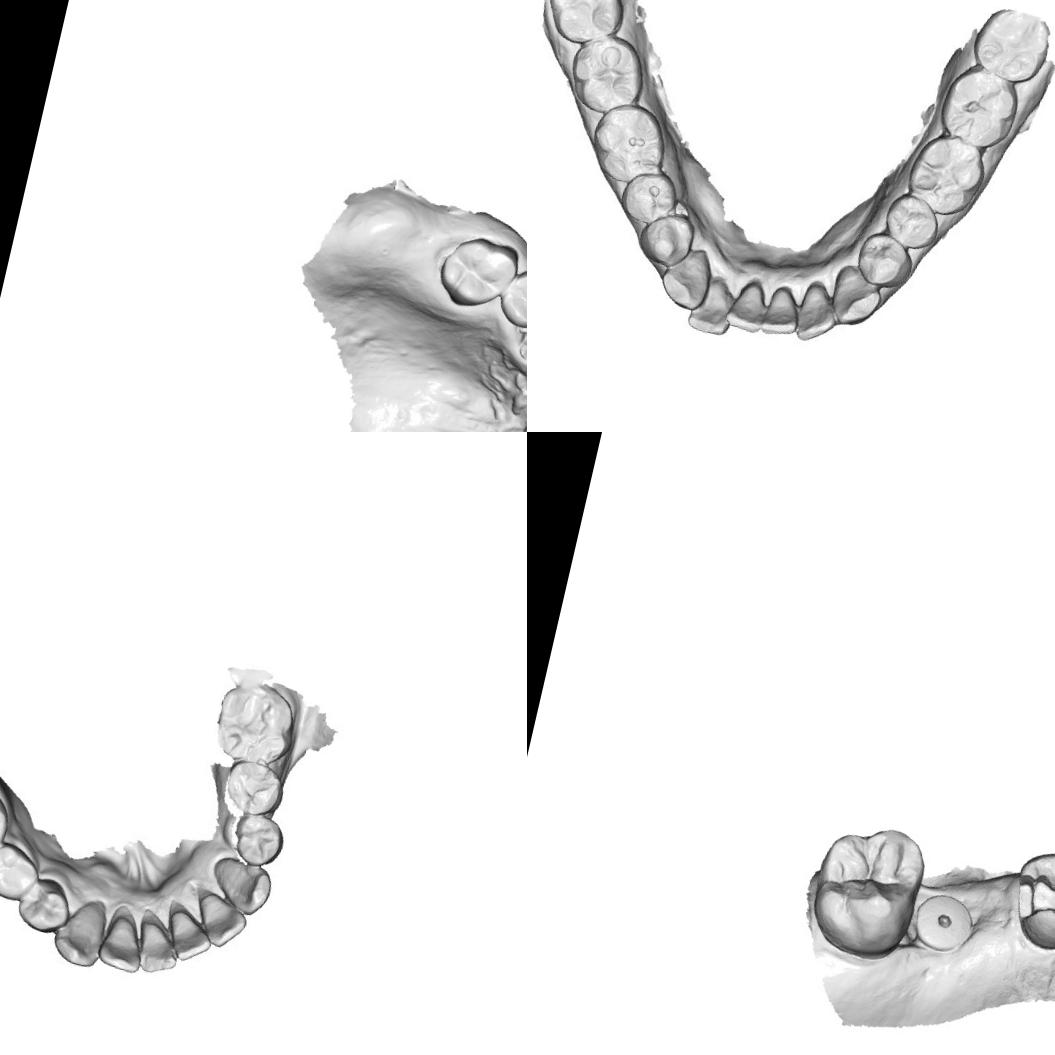canine: (47, 887, 119, 972), (206, 856, 274, 922), (825, 262, 887, 332), (634, 207, 698, 272)
implant: (908, 888, 980, 963)
incisor: (656, 241, 717, 314), (685, 273, 739, 338), (190, 890, 250, 948), (792, 280, 844, 346), (159, 902, 215, 961), (98, 909, 147, 968), (722, 278, 770, 336), (134, 916, 182, 973), (759, 284, 805, 340)
inlay: (1006, 852, 1055, 936)
molar: (800, 812, 936, 970), (933, 57, 1025, 154), (584, 95, 676, 192), (206, 676, 304, 766), (562, 27, 654, 122), (901, 128, 992, 222), (433, 228, 523, 317), (966, 1, 1055, 88), (539, 0, 632, 52)
premolar: (216, 754, 289, 823), (852, 228, 919, 294), (616, 164, 683, 230), (879, 188, 945, 254), (227, 804, 292, 868), (16, 874, 71, 940), (0, 843, 42, 903), (493, 261, 527, 335)
